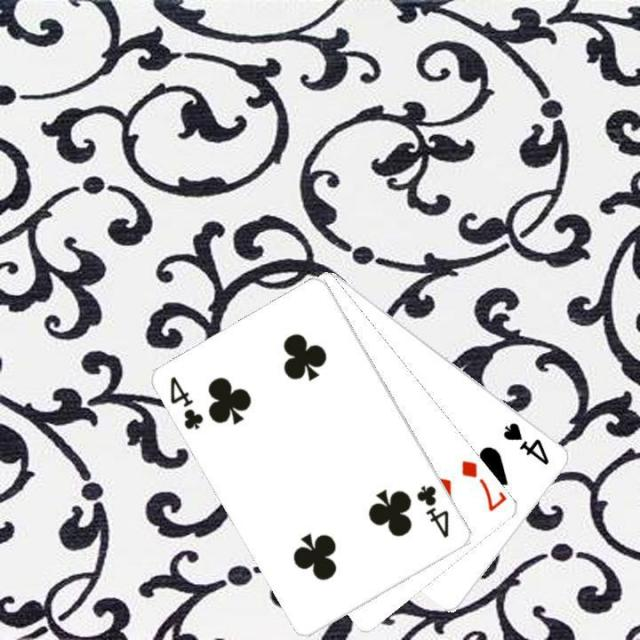4C: (166, 372, 206, 432), (412, 481, 452, 540)
4S: (500, 418, 552, 467)
7D: (458, 456, 508, 514)
